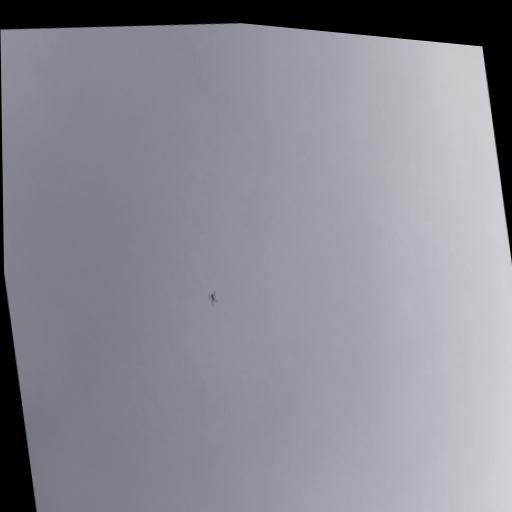drones: (204, 284, 221, 311)
